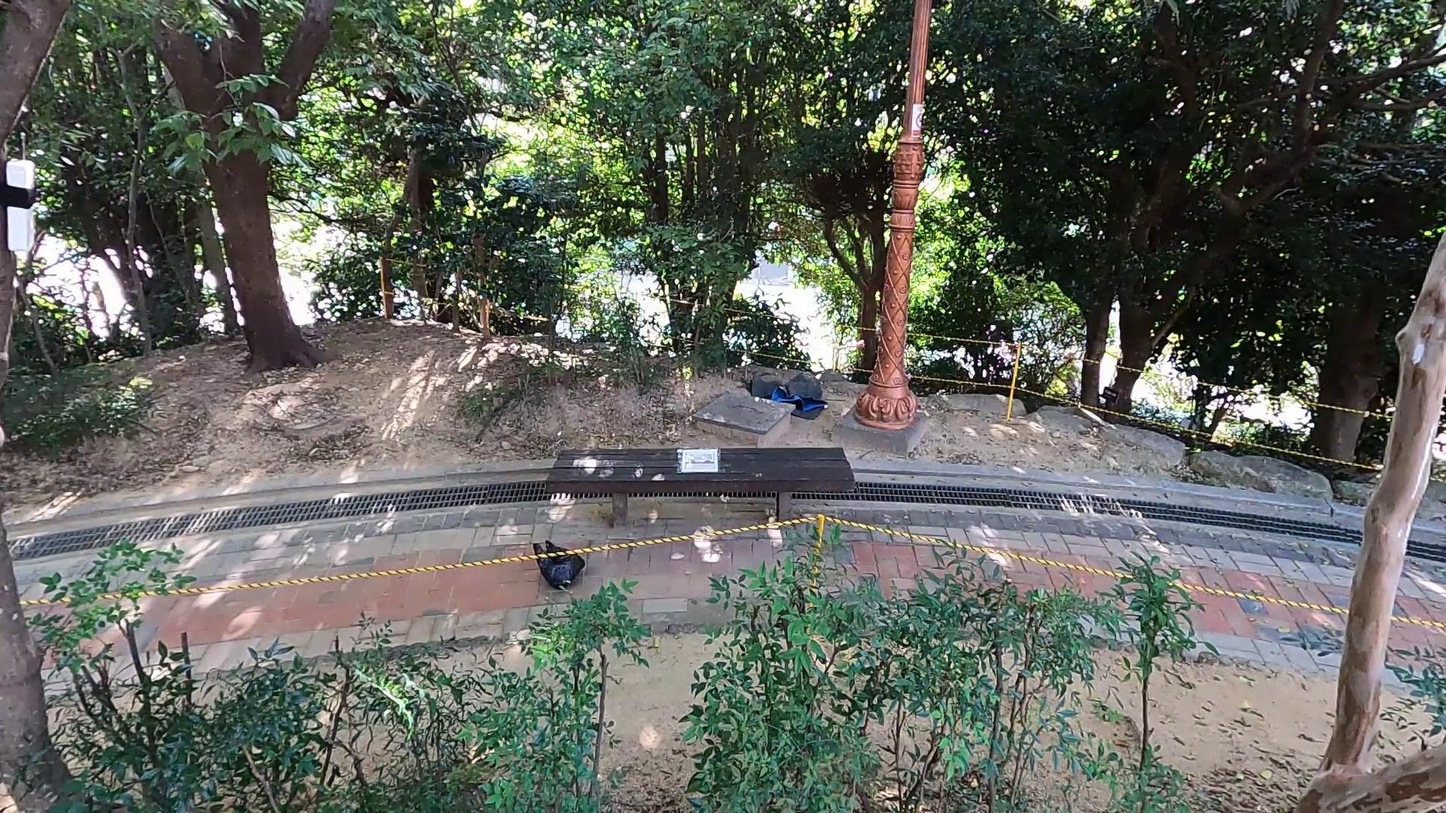trash: (747, 370, 828, 420), (531, 539, 585, 588)
